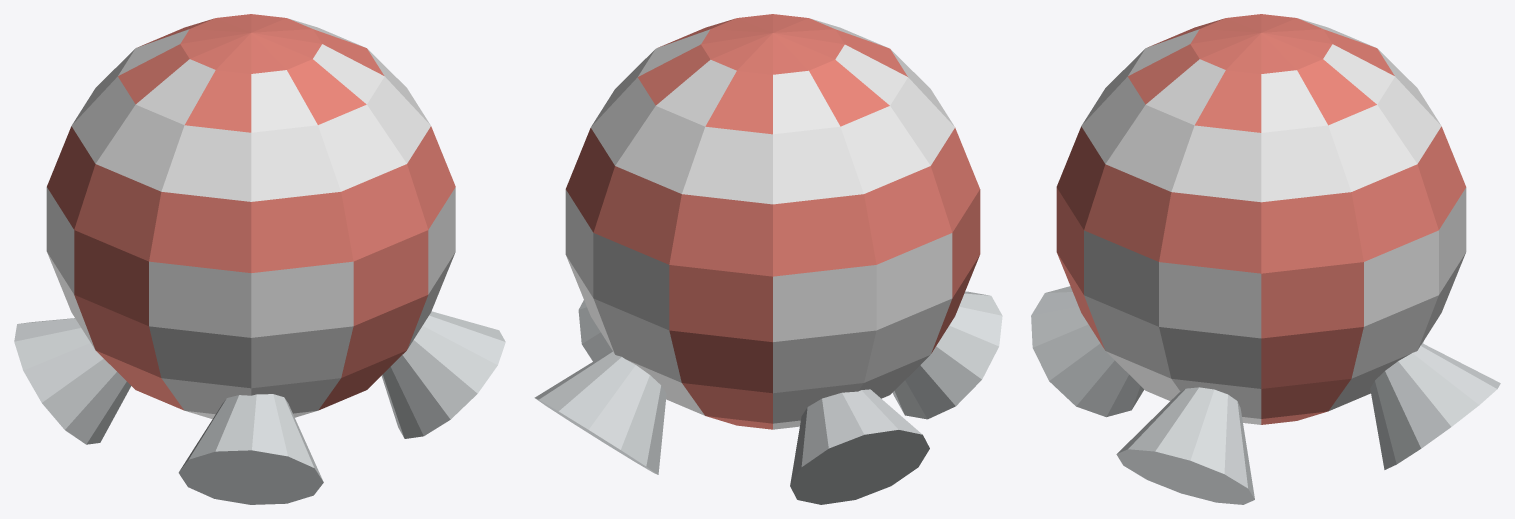
Rendered from FlightDrone.fbx.
The picture shows the model from 3 angles, left to right: view 1: azimuth 30°, elevation 25°; view 2: azimuth 150°, elevation 25°; view 3: azimuth 270°, elevation 25°; orthographic projection.
Visible parts, largest first — view 1: mesh_1079698482, mesh_27368707, mesh_2078791386, mesh_1015820879; view 2: mesh_1079698482, mesh_1015820879, mesh_1458263932, mesh_27368707, mesh_2078791386; view 3: mesh_1079698482, mesh_2078791386, mesh_1458263932, mesh_27368707.
Boxes of the visible parts, <box> form: mesh_1079698482: <box>46,14,455,418</box>; mesh_27368707: <box>178,394,323,504</box>; mesh_2078791386: <box>381,311,505,438</box>; mesh_1015820879: <box>14,318,130,444</box>; mesh_1079698482: <box>565,14,980,429</box>; mesh_1015820879: <box>790,389,929,504</box>; mesh_1458263932: <box>534,350,666,474</box>; mesh_27368707: <box>892,291,1002,419</box>; mesh_2078791386: <box>578,300,611,361</box>; mesh_1079698482: <box>1056,14,1466,424</box>; mesh_2078791386: <box>1116,387,1254,504</box>; mesh_1458263932: <box>1370,343,1500,469</box>; mesh_27368707: <box>1031,286,1144,417</box>.
Bounding box in the file's own units: 25.39 × 24.76 × 25.74.
